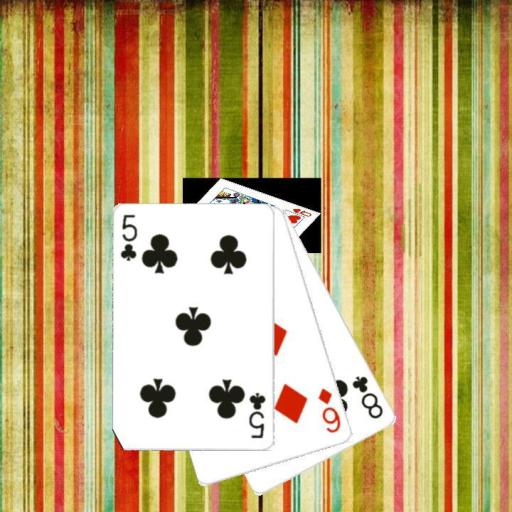5C: (118, 212, 140, 263), (246, 390, 267, 440)
6D: (315, 385, 343, 435)
8C: (349, 373, 386, 421)
